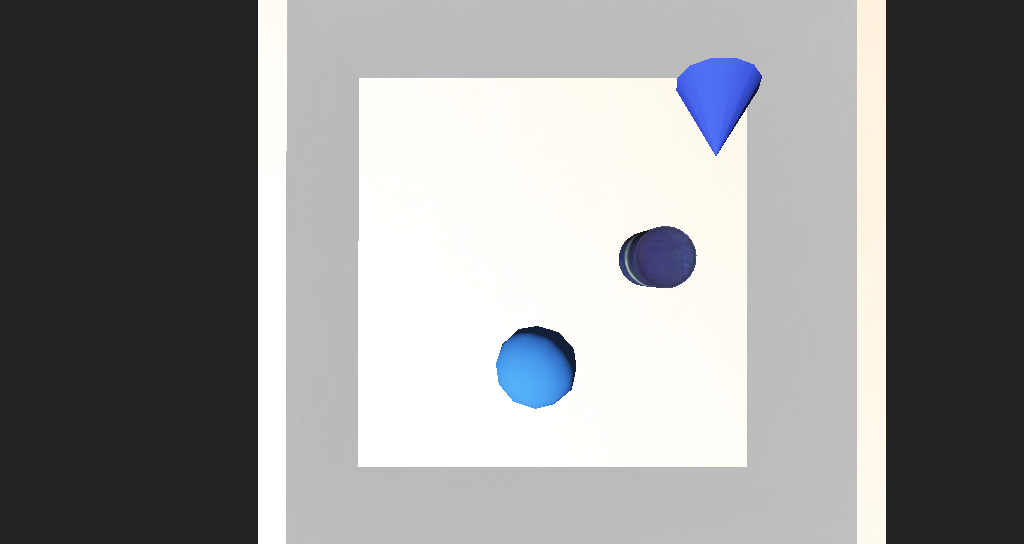cone: (563, 246, 610, 279)
cylinder: (589, 150, 677, 222)
sphere: (458, 298, 525, 341)
